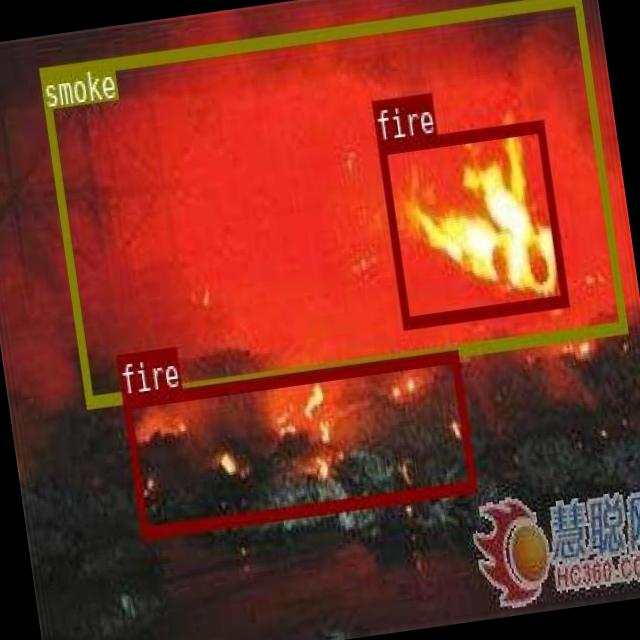fire: (122, 347, 476, 536), (377, 120, 568, 327)
smoke: (38, 0, 627, 407)
